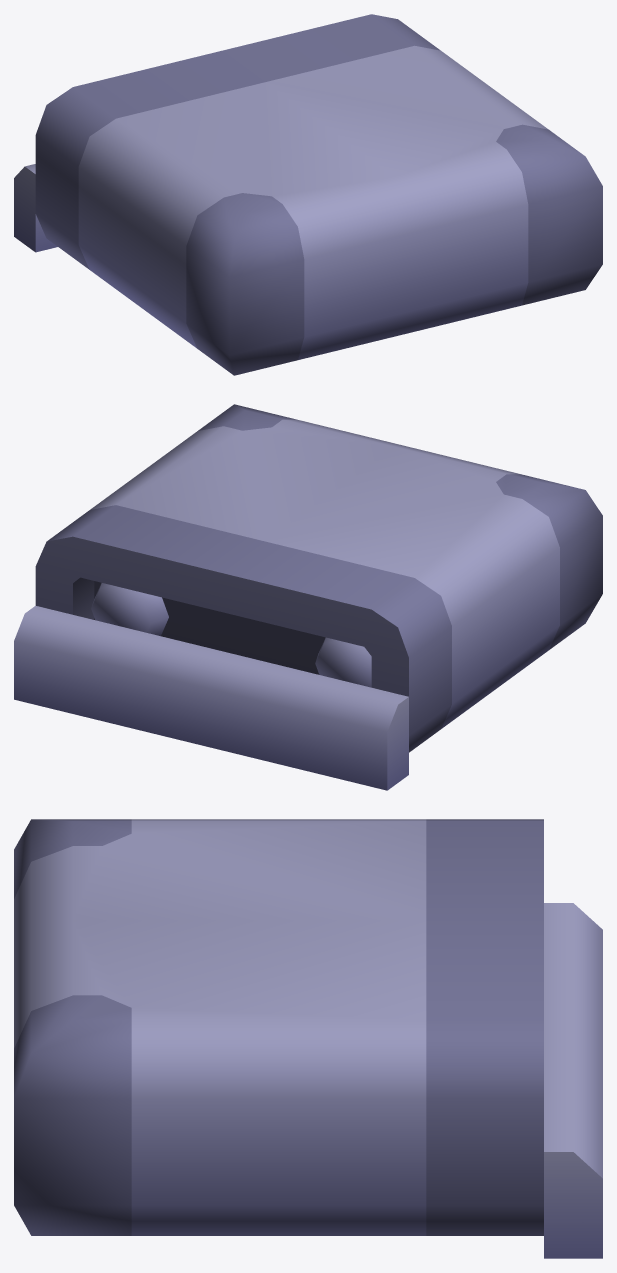
File: kenney-factory-conveyor-stripe-sides-junction-t.glb
3 renders of one model, top to bottom at view 1: azimuth 30°, elevation 25°; view 2: azimuth 150°, elevation 25°; view 3: azimuth 270°, elevation 25°, orthographic. The views are drawn at different scales.
Visible parts, largest first — view 1: conveyor-stripe-sides-junction-t; view 2: conveyor-stripe-sides-junction-t; view 3: conveyor-stripe-sides-junction-t.
Boxes of the visible parts, <box> form: conveyor-stripe-sides-junction-t: <box>14,14,602,375</box>; conveyor-stripe-sides-junction-t: <box>14,404,602,790</box>; conveyor-stripe-sides-junction-t: <box>14,819,602,1258</box>.
Bounding box in the file's own units: 1.5 × 0.6 × 1.5.
1 material, 1 textured.
